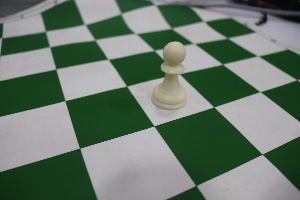white_pawn: (147, 32, 196, 125)
